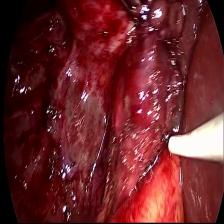Hook: (163, 112, 223, 170)
